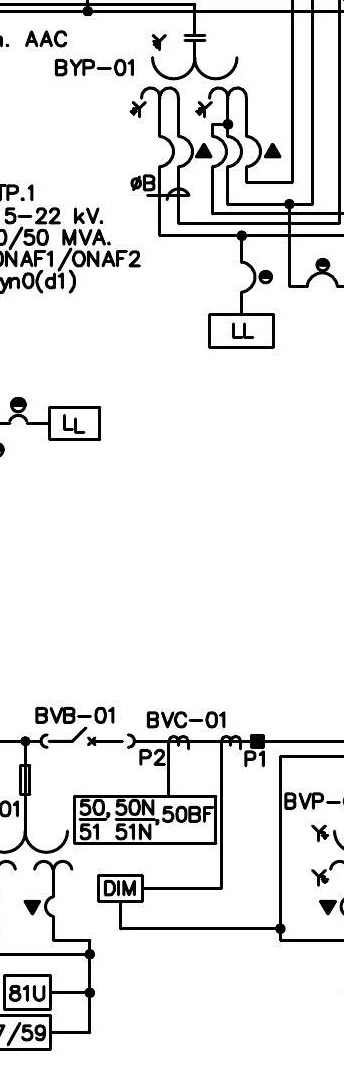115_cvt_3p: (129, 34, 249, 119)
22_breaker: (39, 726, 136, 750)
DIM: (97, 874, 144, 903)
LL: (208, 313, 275, 349), (48, 406, 101, 442)
